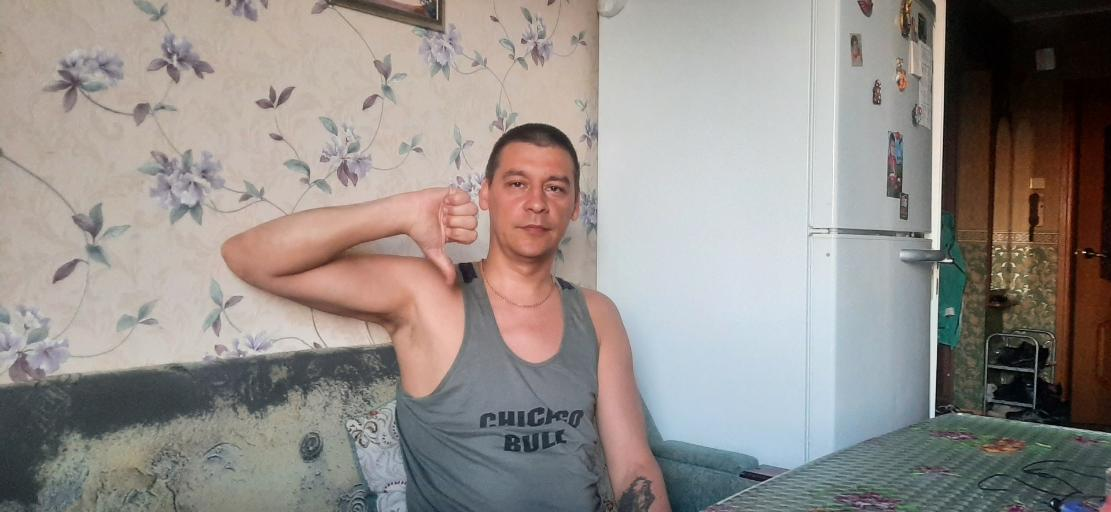dislike: (404, 183, 481, 288)
